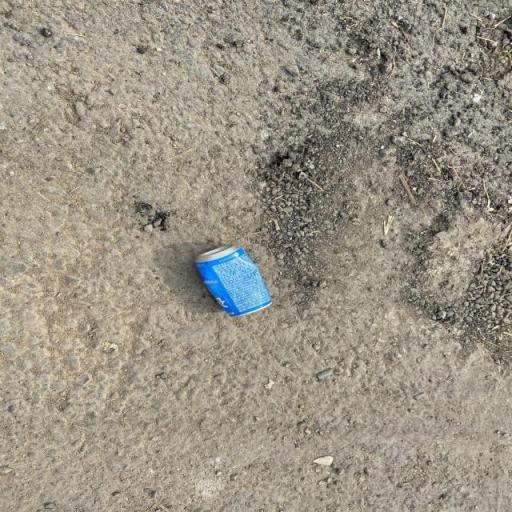metal: (171, 234, 293, 334)
